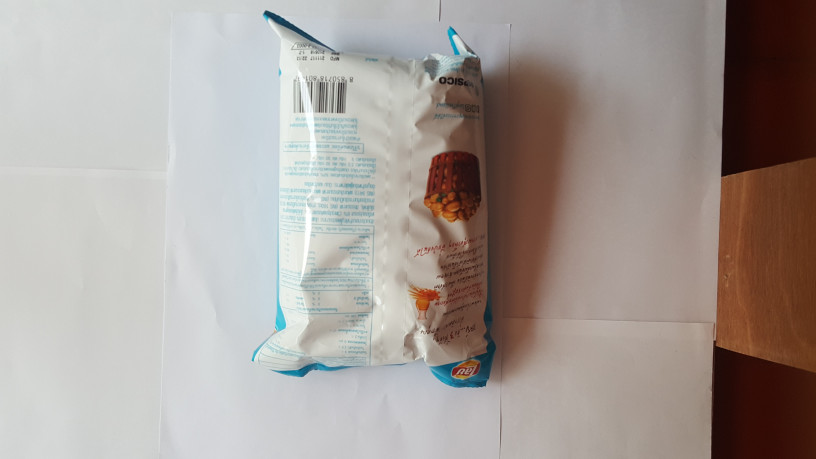lays-onion: (228, 2, 500, 414)
